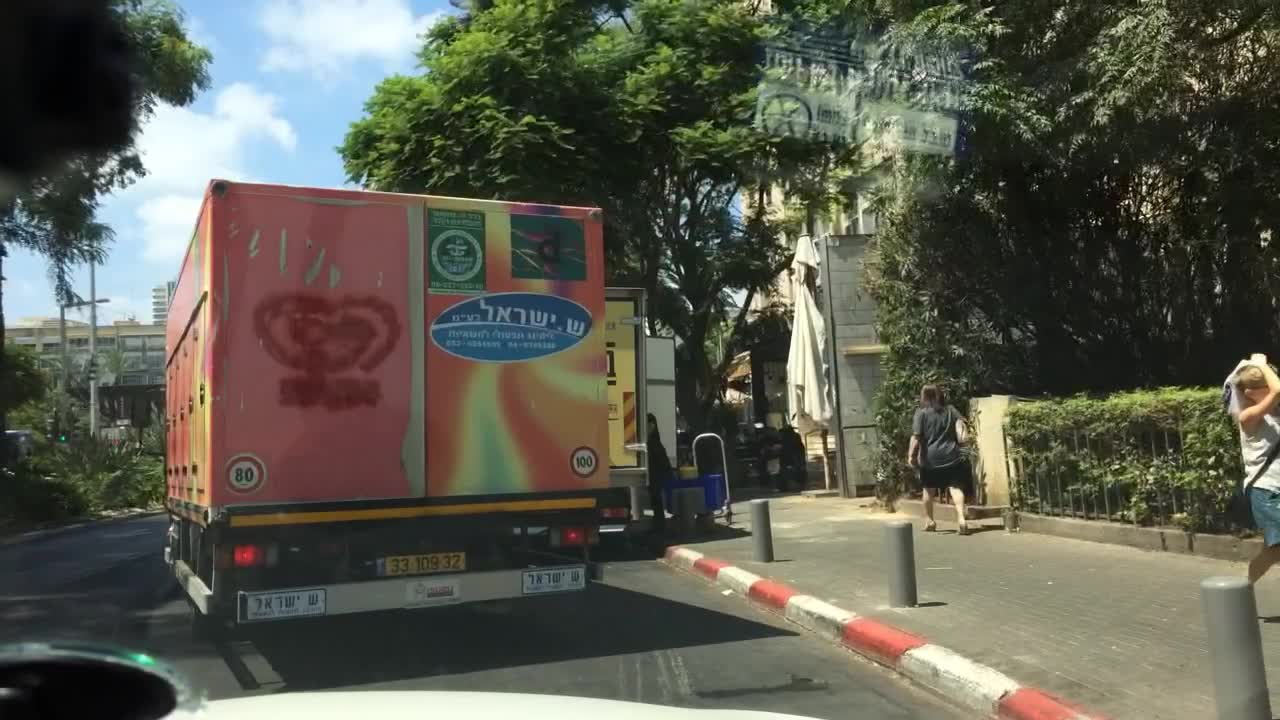motor: (754, 407, 814, 494)
person: (1222, 354, 1277, 594), (902, 379, 979, 536), (640, 409, 677, 535)
traffic light: (42, 405, 61, 440), (82, 353, 101, 382), (56, 428, 67, 443)
truck: (154, 178, 621, 646), (606, 284, 660, 556)
